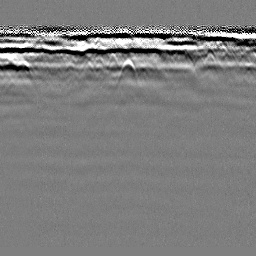cavity: (113, 56, 139, 88)
